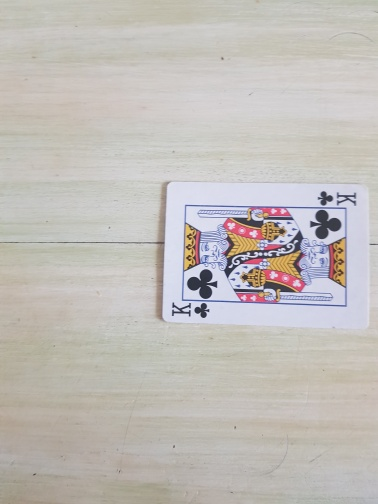king: (160, 180, 370, 330)
